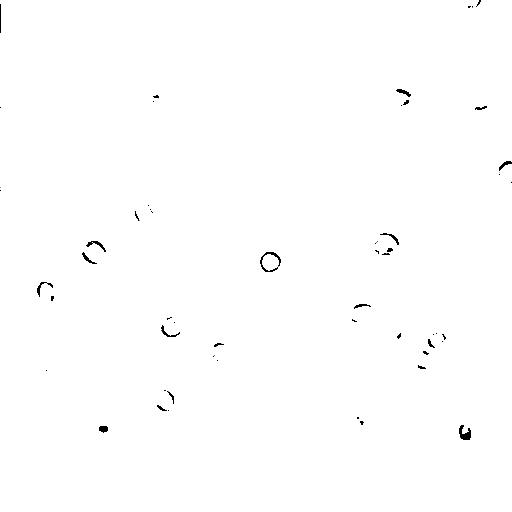micro-algae: (235, 431, 338, 512), (10, 240, 73, 301), (8, 412, 61, 465), (84, 411, 116, 444), (87, 466, 119, 498), (347, 405, 376, 435), (157, 310, 186, 339), (184, 338, 212, 368), (391, 64, 424, 89), (39, 364, 70, 389), (347, 301, 378, 326), (82, 237, 108, 265), (149, 0, 179, 22), (373, 232, 399, 257), (258, 250, 284, 275), (134, 200, 157, 227), (153, 387, 176, 413), (207, 341, 234, 363), (379, 325, 404, 348), (413, 349, 437, 370), (389, 87, 414, 107), (1, 6, 19, 33), (468, 91, 491, 112), (35, 280, 56, 303), (426, 330, 449, 350), (495, 158, 511, 186), (160, 222, 178, 244), (458, 423, 474, 441), (459, 1, 484, 11)
